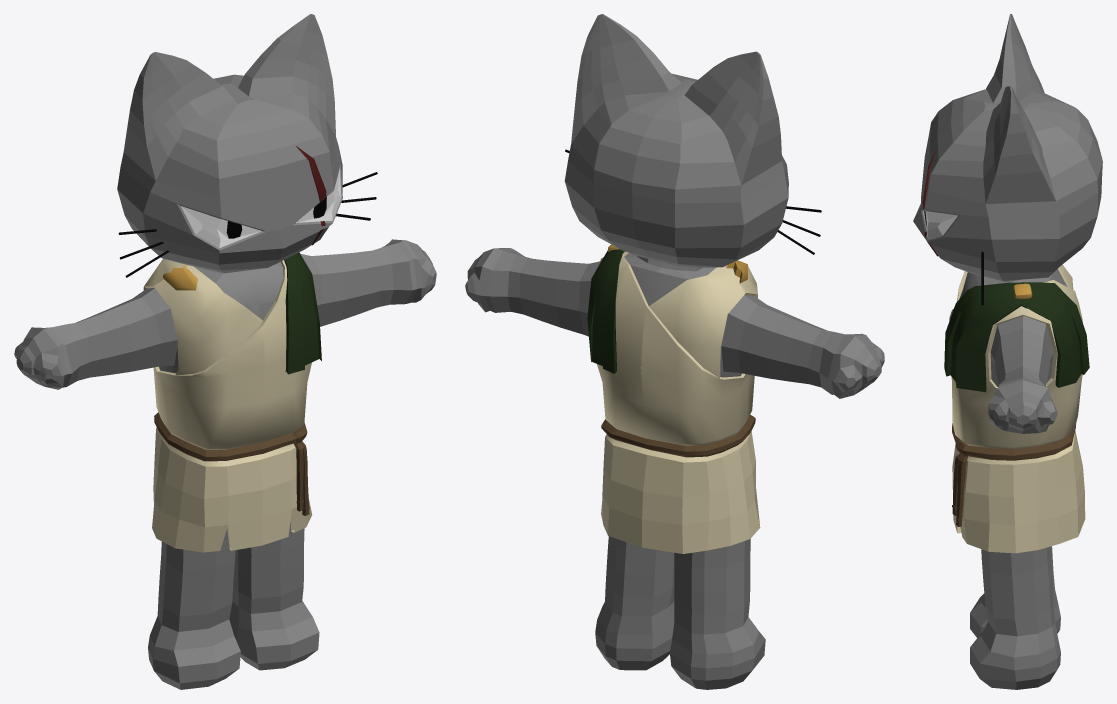
File: alastor_mixamo 1.fbx
3 renders of one model, left to right at view 1: azimuth 30°, elevation 25°; view 2: azimuth 150°, elevation 25°; view 3: azimuth 270°, elevation 25°, orthographic. The views are drawn at different scales.
Visible parts, largest first — view 1: cuerpo, pañuelo, ojo; view 2: cuerpo, pañuelo; view 3: cuerpo, pañuelo, ojo.
Boxes of the visible parts, left/top/right/bottom form: cuerpo: left=14, top=14, right=436, bottom=689; pañuelo: left=284, top=252, right=321, bottom=374; ojo: left=181, top=168, right=341, bottom=248; cuerpo: left=465, top=14, right=884, bottom=689; pañuelo: left=587, top=249, right=624, bottom=373; cuerpo: left=913, top=14, right=1102, bottom=689; pañuelo: left=944, top=282, right=1089, bottom=392; ojo: left=922, top=211, right=957, bottom=239.
Size of the model in its own units: 1.28 by 1.89 by 0.5357.
